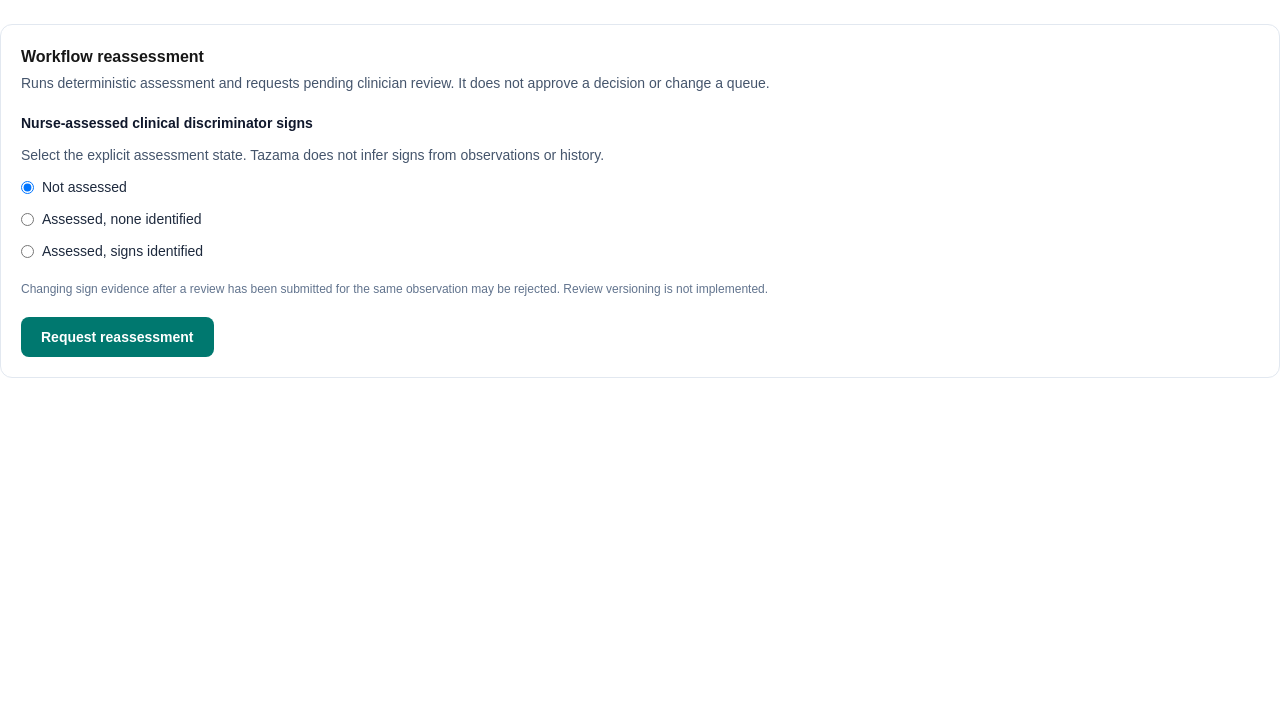
Scenario: ReassessmentPanel › shows MCP audit coverage warnings
Click the button "Request reassessment". click: (117, 337)
box: [21,317,214,357]
(page scrolled)
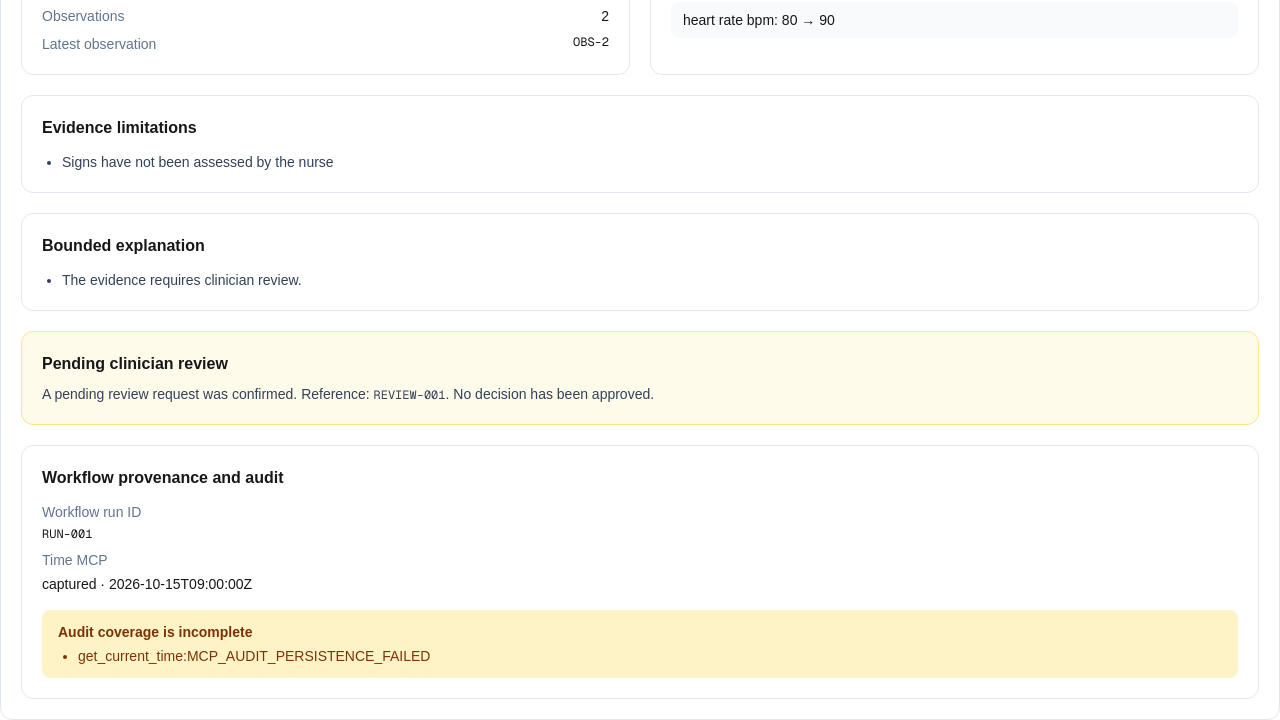
Now the text "Audit coverage is incomplete" is shown, box [58,624,252,640]
Now the list item "get_current_time:MCP_AUDIT_PERSISTENCE_FAILED" is shown, box [78,648,430,664]
